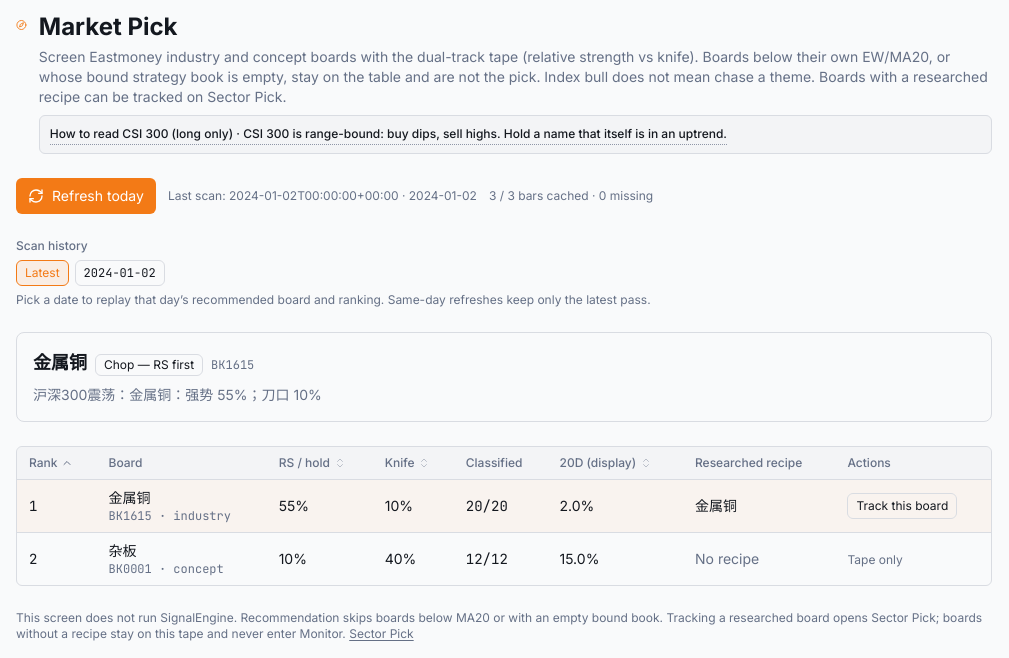
Test: MarketPick page › refresh today reloads the history list
Expected: the button "2024-01-02" is shown, [75,260,165,286]
Click the button "Refresh today": [86, 196] box [16,178,156,214]
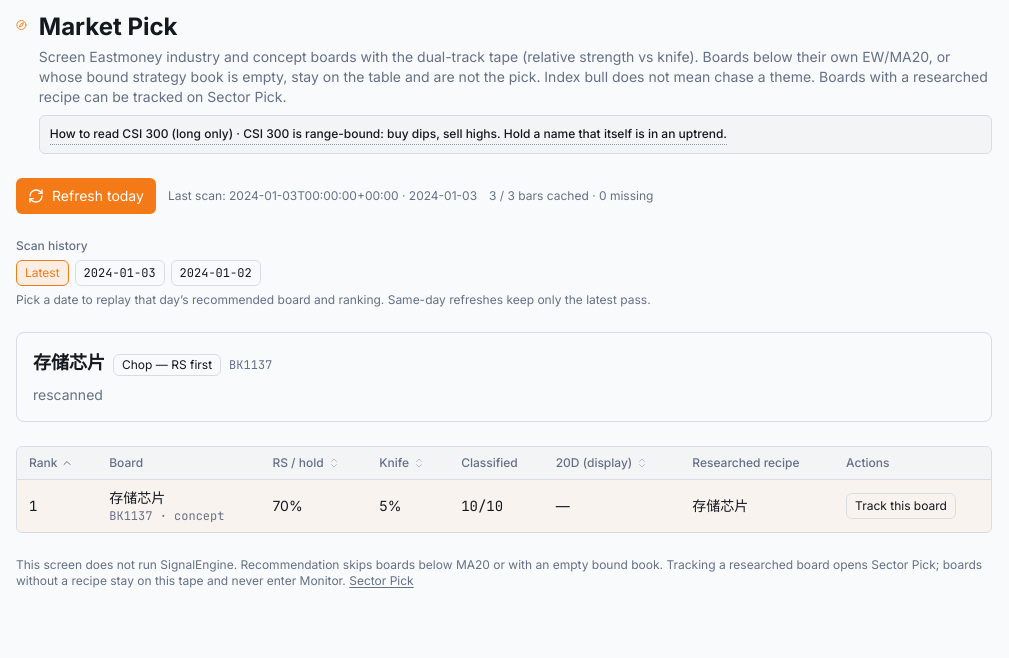
Expected: the button "2024-01-03" is shown, [75,260,165,286]
Expected: the text "rescanned" is shown, [33,386,103,402]
